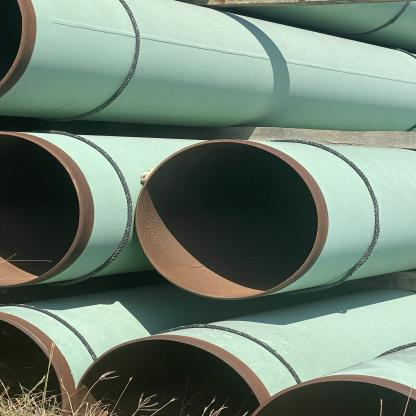clean: (248, 140, 281, 170)
